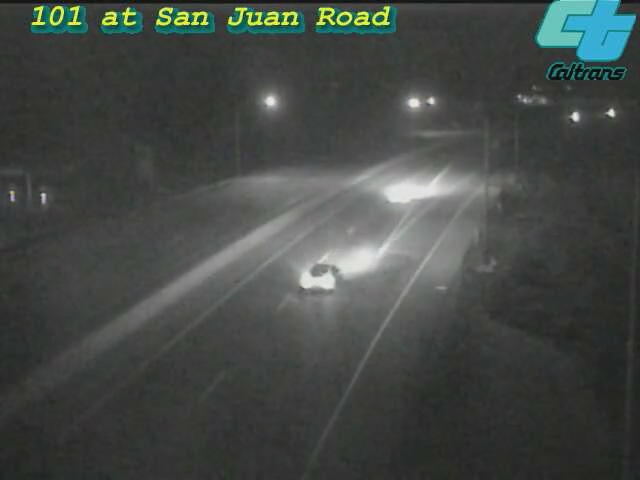vehicle: (360, 153, 440, 233), (281, 234, 361, 314), (550, 91, 600, 141), (586, 88, 636, 138)
